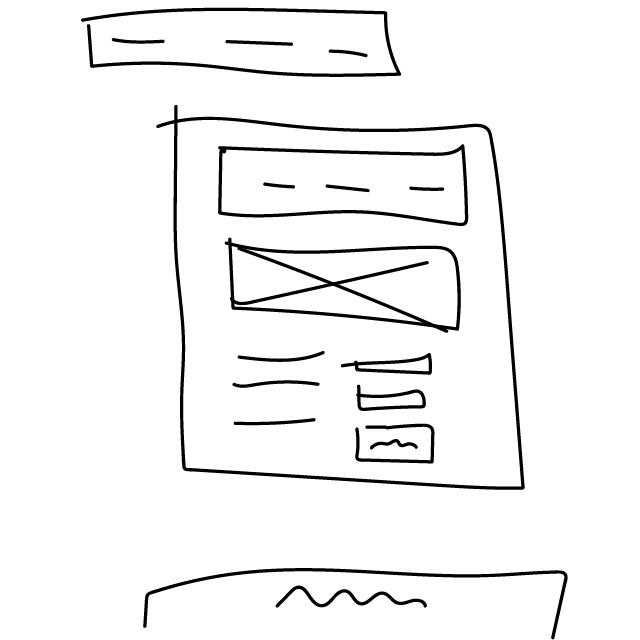button: (354, 419, 440, 470)
container: (150, 97, 545, 501)
footer: (129, 565, 576, 640)
frame: (222, 235, 467, 335)
input: (345, 349, 438, 378), (353, 383, 434, 413)
nav: (76, 5, 406, 85), (215, 139, 473, 231)
text: (229, 343, 328, 437)
